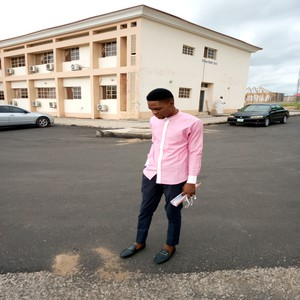Fulokoja_male_student: (144, 88, 200, 255)
